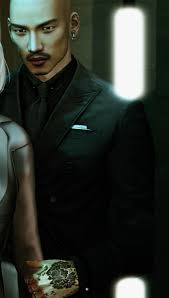asian_male: (7, 1, 73, 97)
